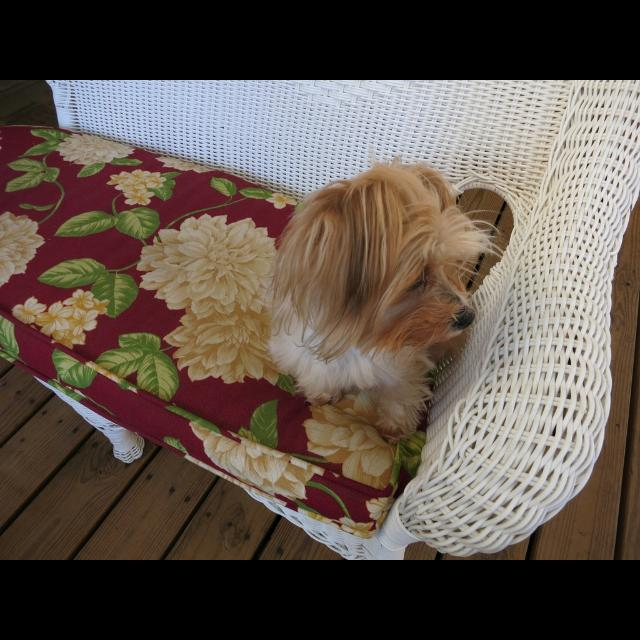Flower: (138, 213, 282, 321), (304, 394, 428, 490), (0, 210, 46, 288), (34, 286, 96, 342), (53, 130, 134, 170), (106, 168, 166, 208), (154, 158, 216, 175), (266, 190, 296, 210)
